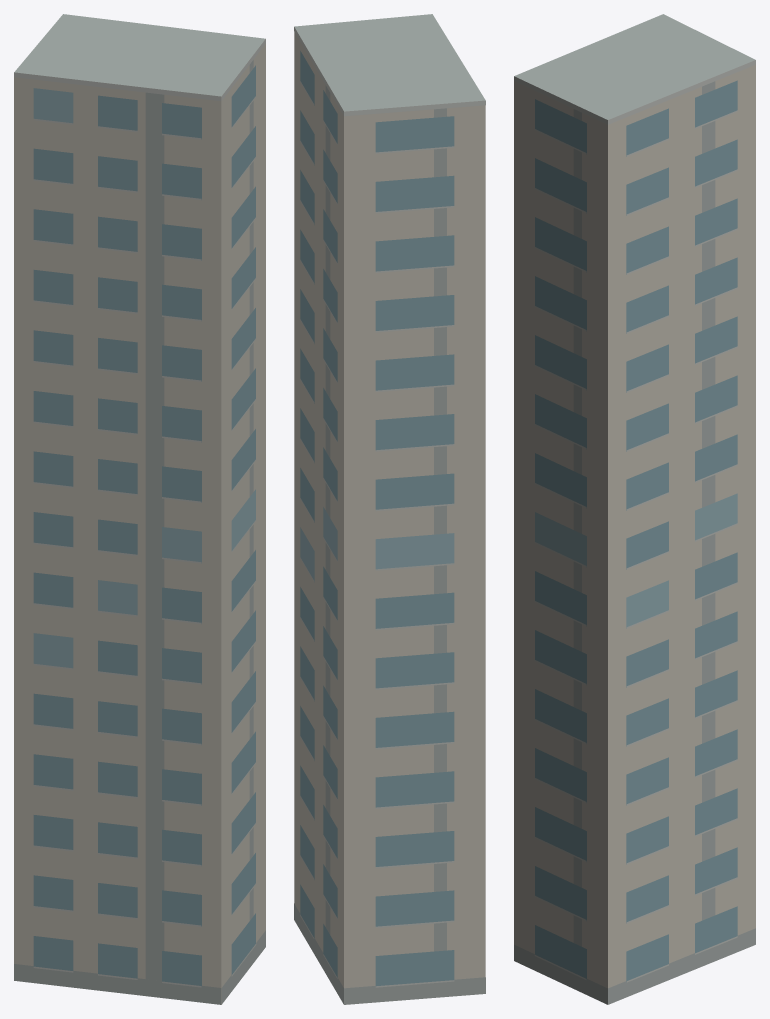
Rendered from survey-upis-32724329.glb.
3 renders of one model, left to right at view 1: azimuth 30°, elevation 25°; view 2: azimuth 150°, elevation 25°; view 3: azimuth 270°, elevation 25°, orthographic. The views are drawn at different scales.
Visible parts, largest first — view 1: survey-upis-32724329.tmp; view 2: survey-upis-32724329.tmp; view 3: survey-upis-32724329.tmp.
Boxes of the visible parts, x1,y1,x2,y2 form: survey-upis-32724329.tmp: (14,14,265,1004); survey-upis-32724329.tmp: (294,14,485,1004); survey-upis-32724329.tmp: (514,14,755,1004).
Bounding box in the file's own units: 11.78 × 45.75 × 11.34.
